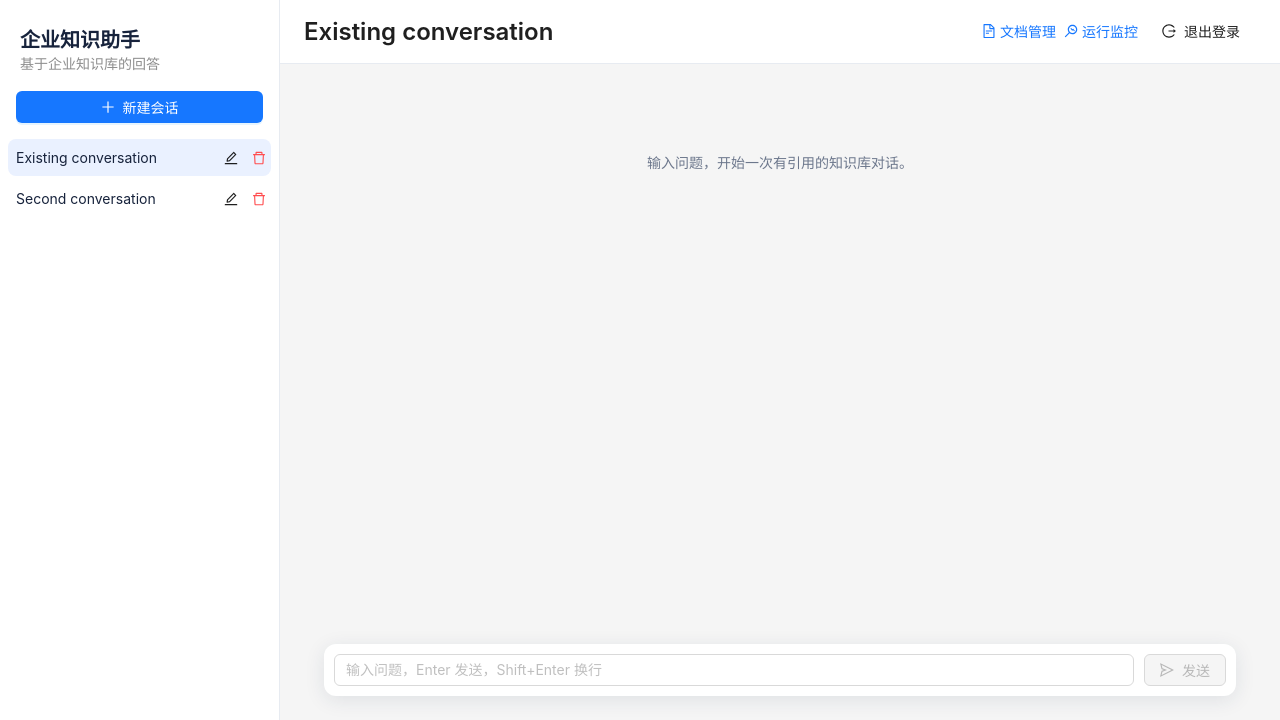
Test case: authentication and chat › aborts on route change and ignores completion from the old stream
Later steps or results of the test are not shown.
Check: the link "Second conversation" is shown, box left=16, top=190, right=156, bottom=207
Type "Old stream" into the text box labelled "问题" at (734, 670), box left=334, top=654, right=1134, bottom=686
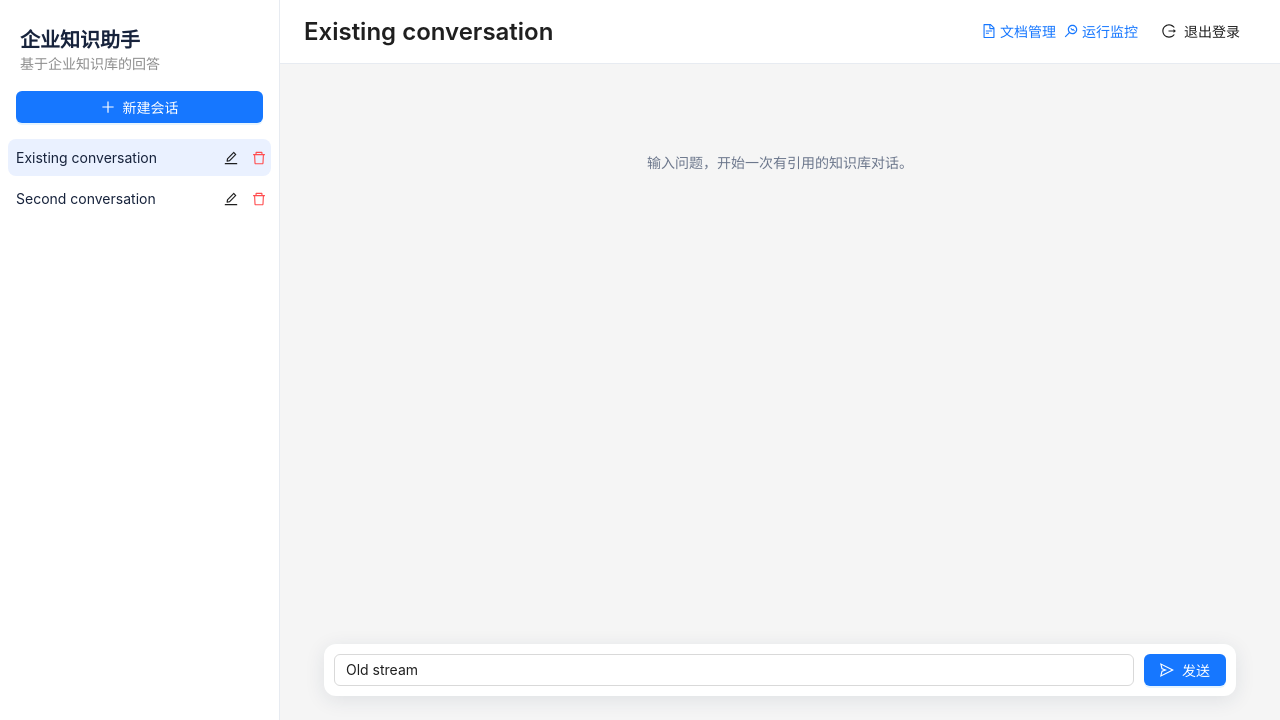
Click the button "发送" at (1185, 670), box left=1144, top=654, right=1226, bottom=686
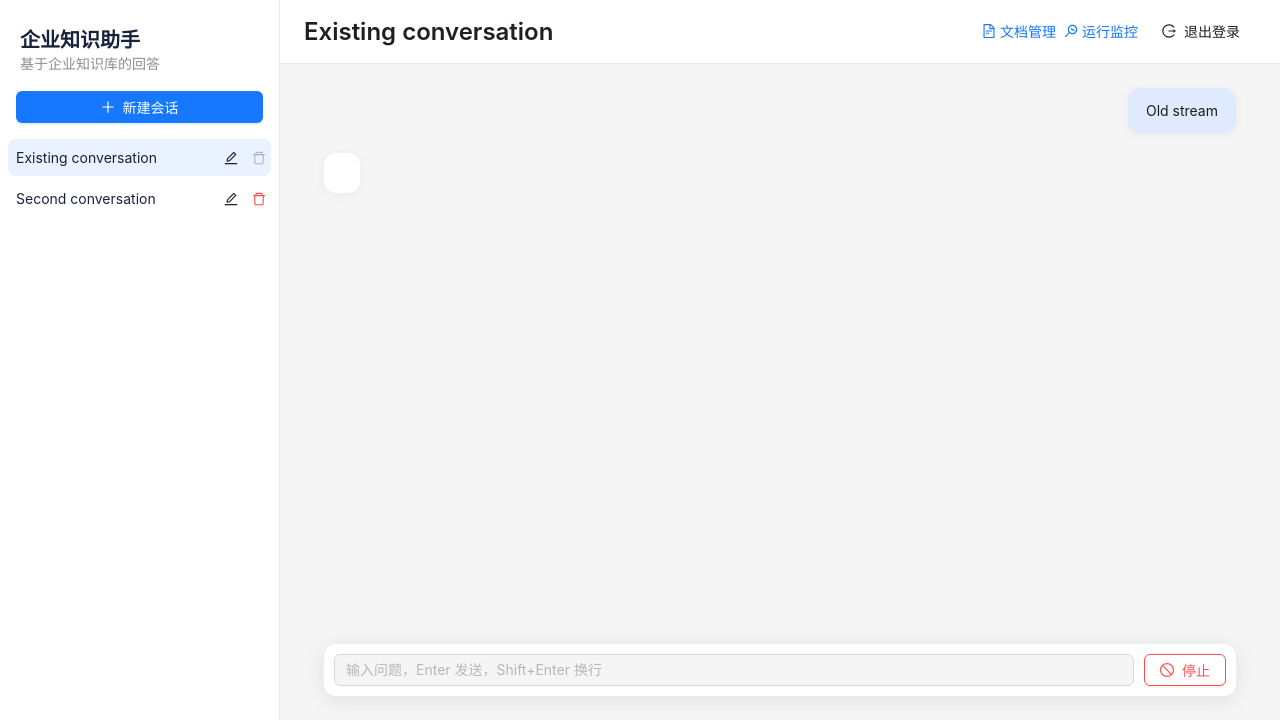
Check: the button "停止" is shown, box left=1144, top=654, right=1226, bottom=686
